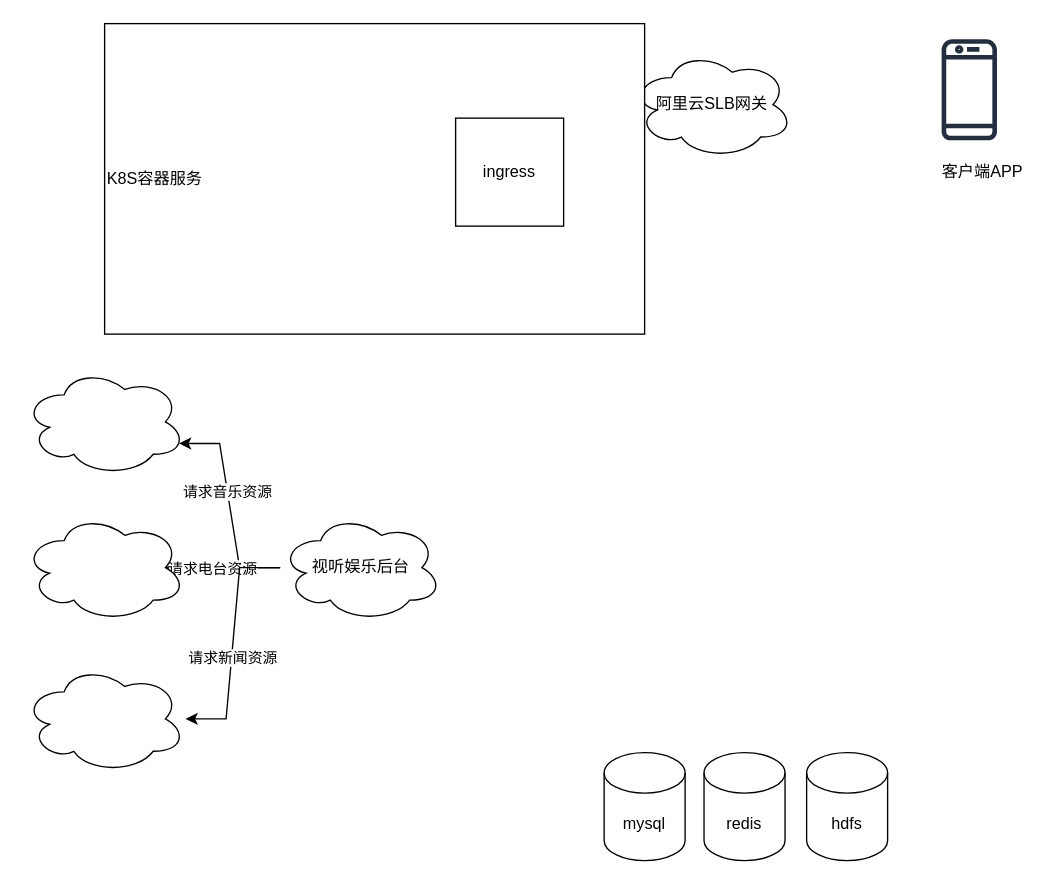
The diagram is 1060 pixels wide and 884 high, and some of its shapes have lost their labels. Here are the shapes that lost their labels. From the top down, the centre of each, then its label:
At point 104,421: "酷狗云端".
At point 104,567: "喜马拉雅云端".
At point 104,718: "乐听头条云端".
